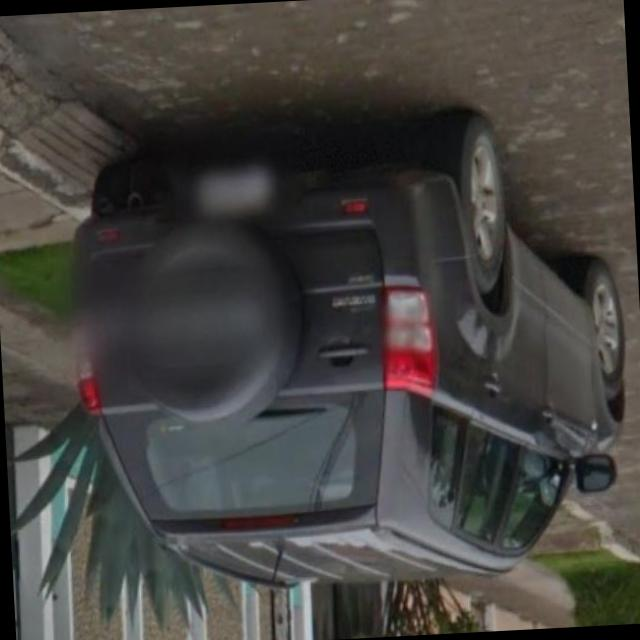car: (58, 107, 632, 609)
